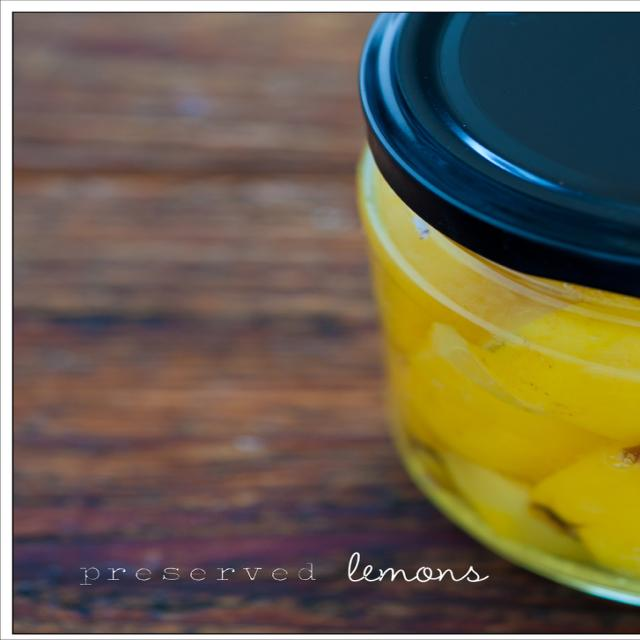Lemon: (367, 150, 640, 578)
